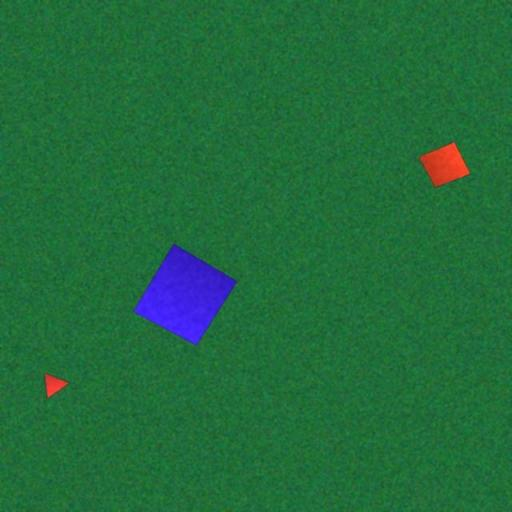BLUE_SQUARE: (133, 244, 238, 346)
RED_SQUARE: (418, 141, 472, 189)
